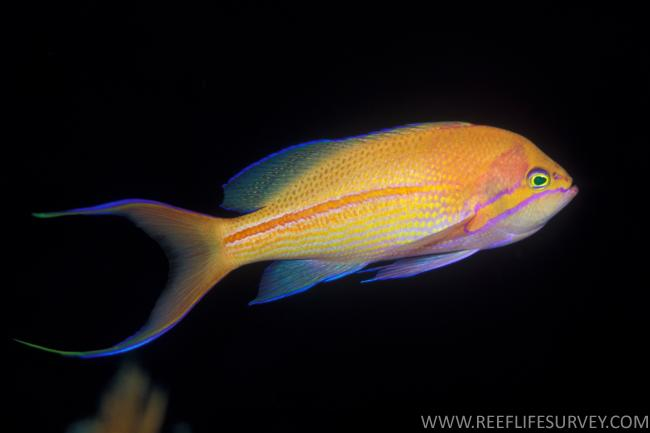fish: (15, 120, 578, 359)
